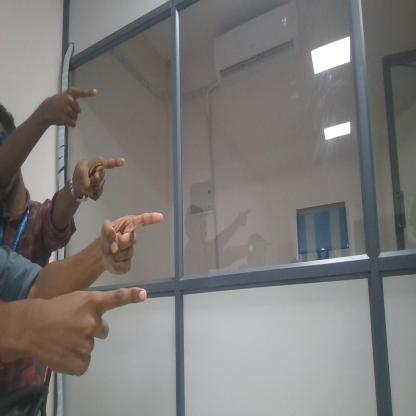Left: (43, 282, 147, 381), (101, 208, 166, 281), (71, 154, 130, 206), (40, 83, 101, 133)
